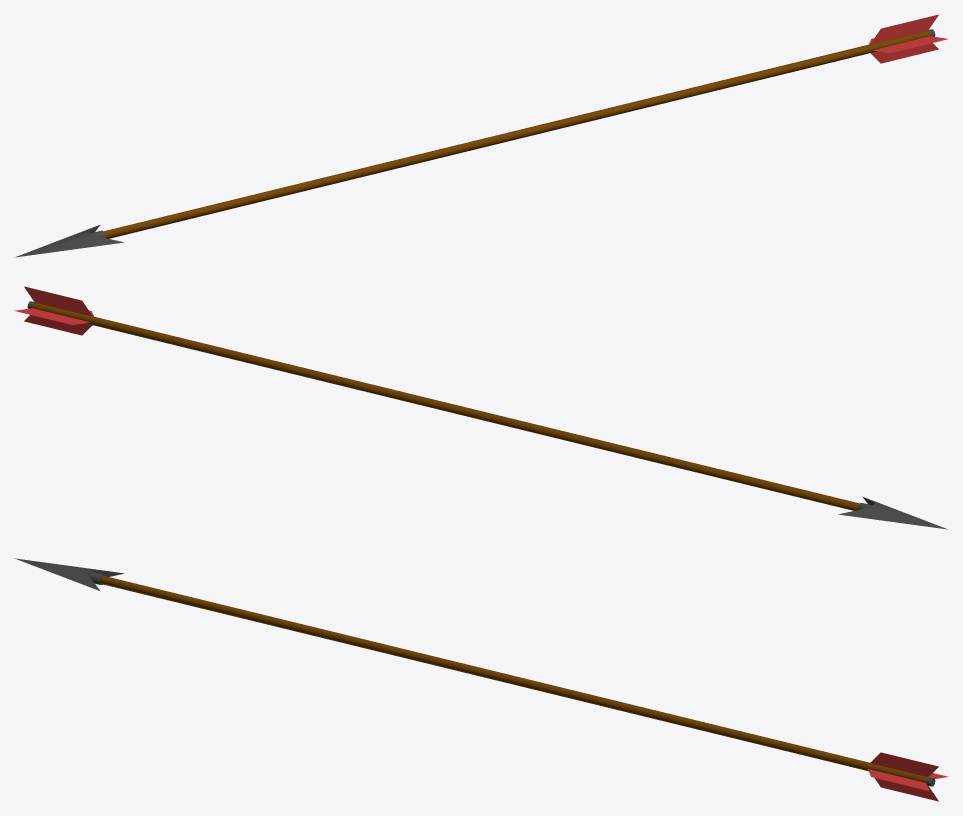
Rendered from Arrow.fbx.
3 views of the same model, one above another, from view 1: azimuth 30°, elevation 25°; view 2: azimuth 150°, elevation 25°; view 3: azimuth 330°, elevation 25° (orthographic).
Visible parts, largest first — view 1: Zylinder, Head01; view 2: Zylinder, Head01; view 3: Zylinder, Head01.
Part boxes in pixels (x1,y1,x2,y2): Zylinder: (91,14,947,238); Head01: (14,224,124,257); Zylinder: (14,286,871,510); Head01: (838,496,948,529); Zylinder: (89,572,948,801); Head01: (14,558,124,591).
Size of the model in its own units: 238 by 8.6 by 10.9.
